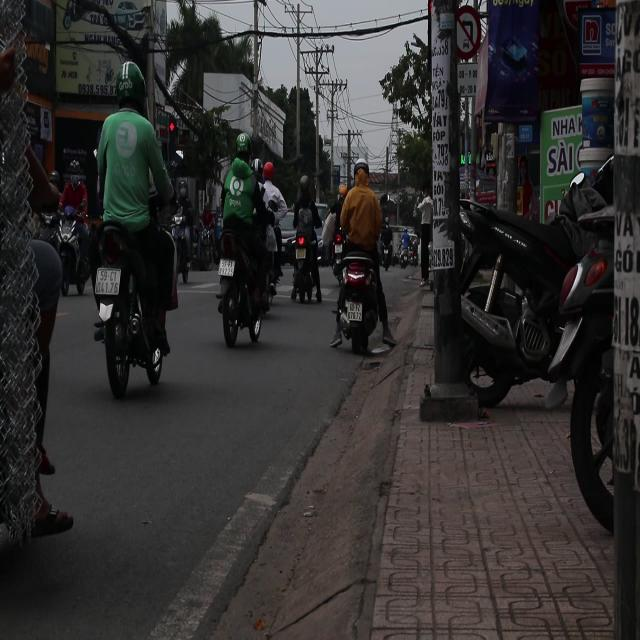motorbike: (456, 186, 566, 410), (564, 165, 620, 518), (91, 222, 169, 398), (330, 252, 390, 353), (217, 234, 269, 348), (54, 204, 90, 295), (288, 225, 322, 304)
